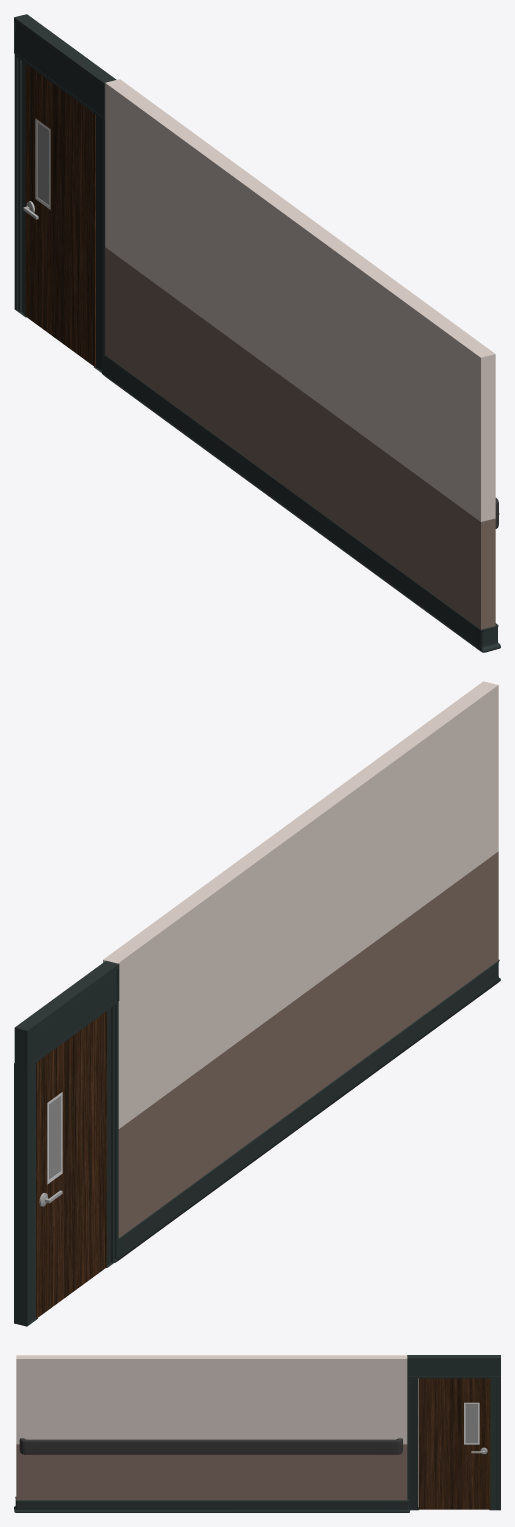
File: Main Hallway with door.fbx
3 views of the same model, one above another, from view 1: azimuth 30°, elevation 25°; view 2: azimuth 150°, elevation 25°; view 3: azimuth 270°, elevation 25° (orthographic). The views are drawn at different scales.
Parts seen in each view (by area): view 1: Wall, SmallerWooden_E_Door, Wall_bottom_Decor, Top_door_side, Right_Door_side, Left_Door_Side; view 2: Wall, SmallerWooden_E_Door, Wall_bottom_Decor, Right_Door_side, Top_door_side, Left_Door_Side; view 3: Wall, SmallerWooden_E_Door, Middle_Handle, Wall_bottom_Decor, Top_door_side, Left_Door_Side, Right_Door_side.
Boxes of the visible parts, bbox=[...] form: Wall: bbox=[105, 79, 495, 651]; SmallerWooden_E_Door: bbox=[25, 64, 95, 366]; Wall_bottom_Decor: bbox=[102, 355, 500, 652]; Top_door_side: bbox=[14, 14, 116, 119]; Right_Door_side: bbox=[14, 53, 26, 317]; Left_Door_Side: bbox=[25, 61, 105, 374]; Wall: bbox=[103, 681, 498, 1260]; SmallerWooden_E_Door: bbox=[36, 1011, 106, 1318]; Wall_bottom_Decor: bbox=[114, 959, 500, 1262]; Right_Door_side: bbox=[14, 1058, 38, 1326]; Top_door_side: bbox=[14, 961, 119, 1067]; Left_Door_Side: bbox=[38, 1000, 118, 1267]; Wall: bbox=[16, 1355, 407, 1500]; SmallerWooden_E_Door: bbox=[418, 1378, 490, 1509]; Middle_Handle: bbox=[19, 1438, 402, 1454]; Wall_bottom_Decor: bbox=[14, 1496, 410, 1512]; Top_door_side: bbox=[407, 1355, 500, 1376]; Left_Door_Side: bbox=[407, 1376, 489, 1510]; Right_Door_side: bbox=[489, 1376, 500, 1510].
Bounding box in the file's own units: 1.68 × 14.41 × 41.59.
8 materials, 1 textured.
